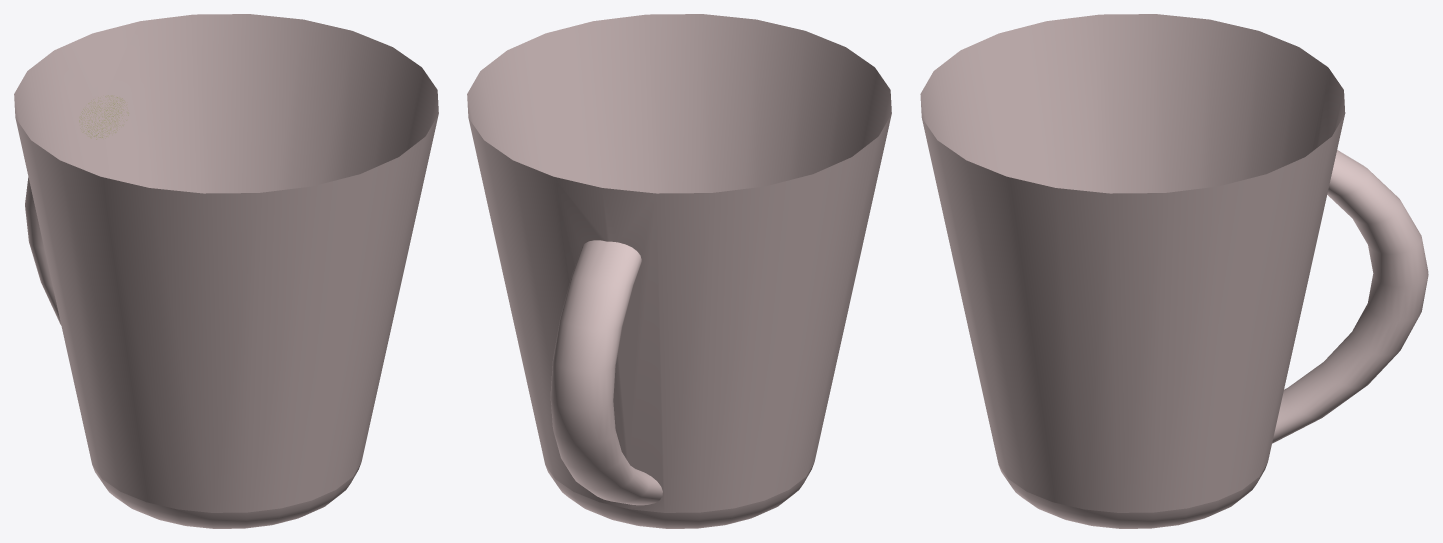
3 views of the same model, side by side, from view 1: azimuth 30°, elevation 25°; view 2: azimuth 150°, elevation 25°; view 3: azimuth 270°, elevation 25° (orthographic).
Visible parts, largest first — view 1: mesh1_mesh1-geometry; view 2: mesh1_mesh1-geometry; view 3: mesh1_mesh1-geometry.
Boxes of the visible parts, x1,y1,x2,y2 form: mesh1_mesh1-geometry: (14, 14, 438, 528); mesh1_mesh1-geometry: (467, 14, 891, 528); mesh1_mesh1-geometry: (920, 14, 1428, 528).
Bounding box in the file's own units: 0.5414 × 0.5363 × 0.6475.
